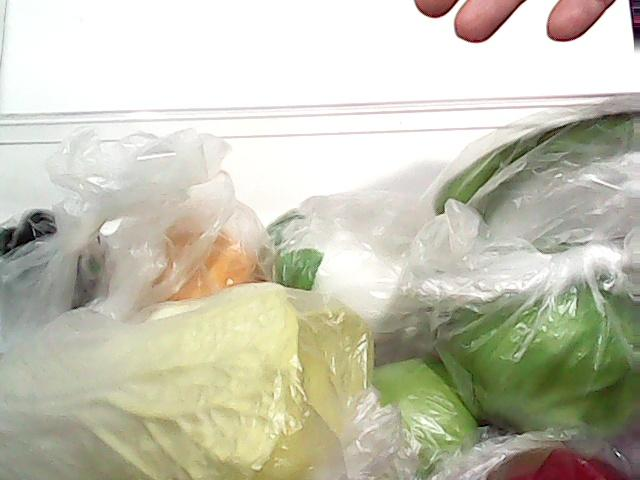apple: (367, 359, 481, 453), (483, 447, 640, 480)
cabbage: (432, 233, 640, 440)
grape: (0, 176, 72, 268)
lemon: (132, 188, 268, 313)
napa cabbage: (1, 288, 367, 480)
pepper: (412, 83, 640, 242)
radish: (260, 198, 440, 342)
